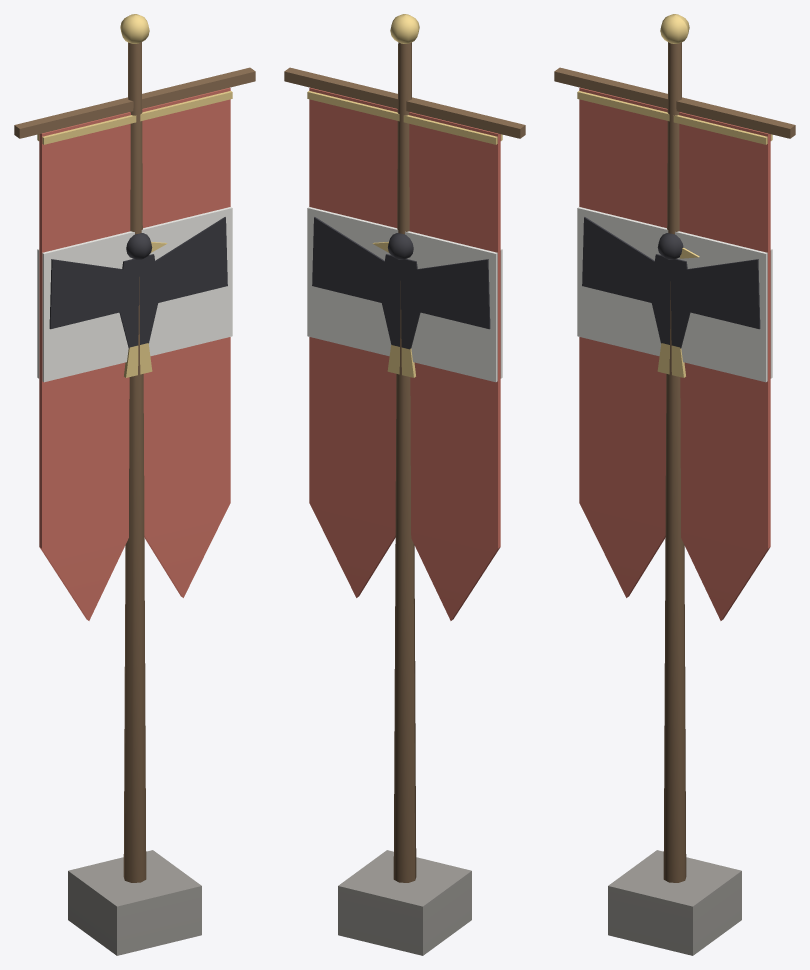
The model's file is banner_deutschland.glb.
The picture shows the model from 3 angles, left to right: view 1: azimuth 30°, elevation 25°; view 2: azimuth 150°, elevation 25°; view 3: azimuth 330°, elevation 25°; orthographic projection.
Parts seen in each view (by area): view 1: G_banner_deutschland; view 2: G_banner_deutschland; view 3: G_banner_deutschland.
Boxes of the visible parts, x1,y1,x2,y2 form: G_banner_deutschland: [14, 14, 255, 955]; G_banner_deutschland: [284, 14, 525, 955]; G_banner_deutschland: [554, 14, 795, 955].
Bounding box in the file's own units: 2.5 × 9.24 × 0.9.
